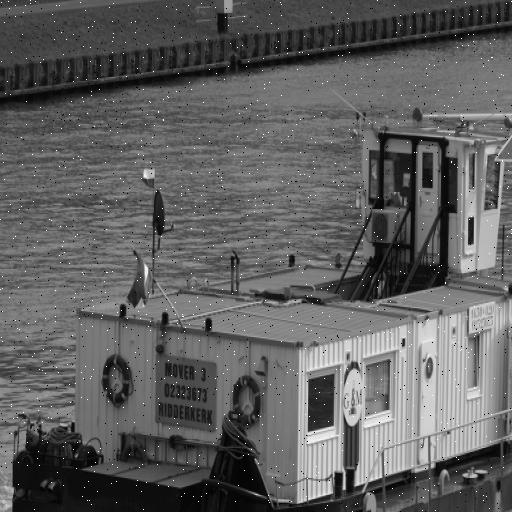tugboat: (3, 103, 512, 512)
